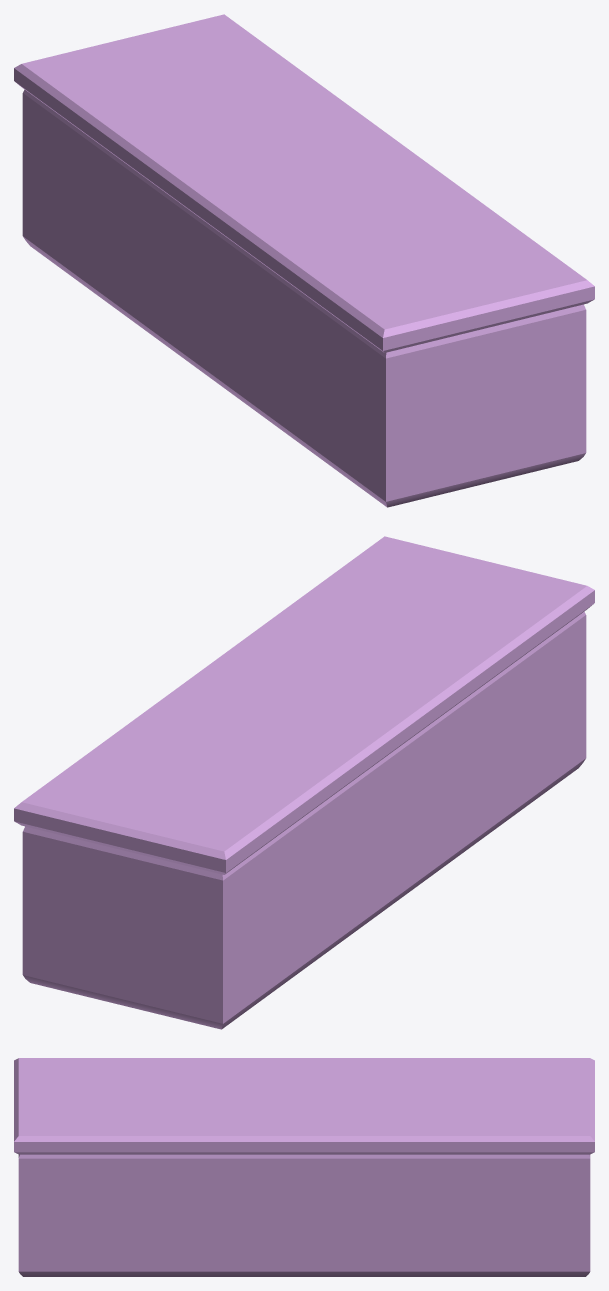
The model's file is Friday_House_KitchenCounter_1.fbx.
The picture shows the model from 3 angles, top to bottom: view 1: azimuth 30°, elevation 25°; view 2: azimuth 150°, elevation 25°; view 3: azimuth 270°, elevation 25°; orthographic projection. The views are drawn at different scales.
Visible parts, largest first — view 1: Counter, CounterTop; view 2: Counter, CounterTop; view 3: Counter, CounterTop.
Boxes of the visible parts, x1,y1,x2,y2 form: Counter: [22, 89, 586, 507]; CounterTop: [14, 14, 594, 352]; Counter: [22, 611, 586, 1029]; CounterTop: [14, 536, 594, 874]; Counter: [18, 1154, 590, 1276]; CounterTop: [14, 1058, 594, 1154].
Bounding box in the file's own units: 146 × 121 × 440.
